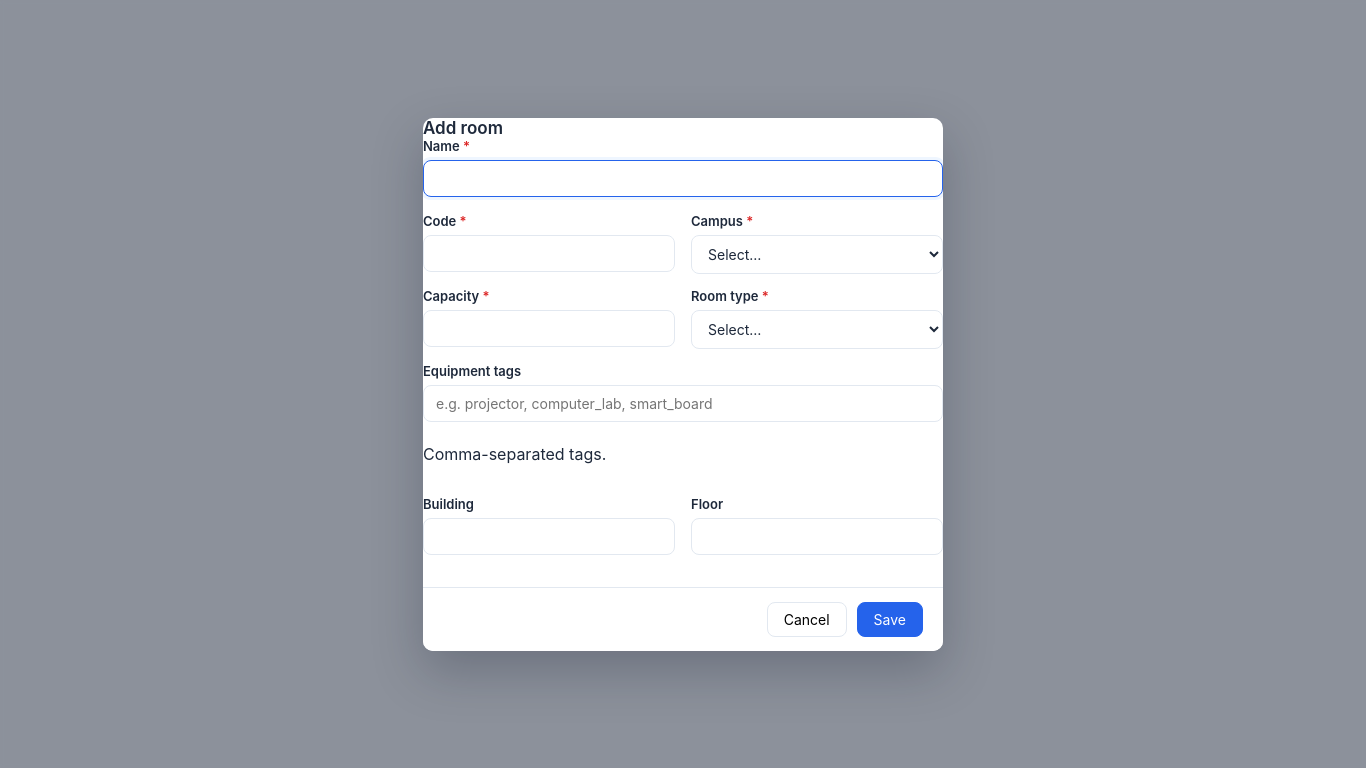
RoomFormModal › create mode › validates required fields on submit
This screenshot has width=1366, height=768.
Click the button "Save": (890, 619) [857,602,923,636]
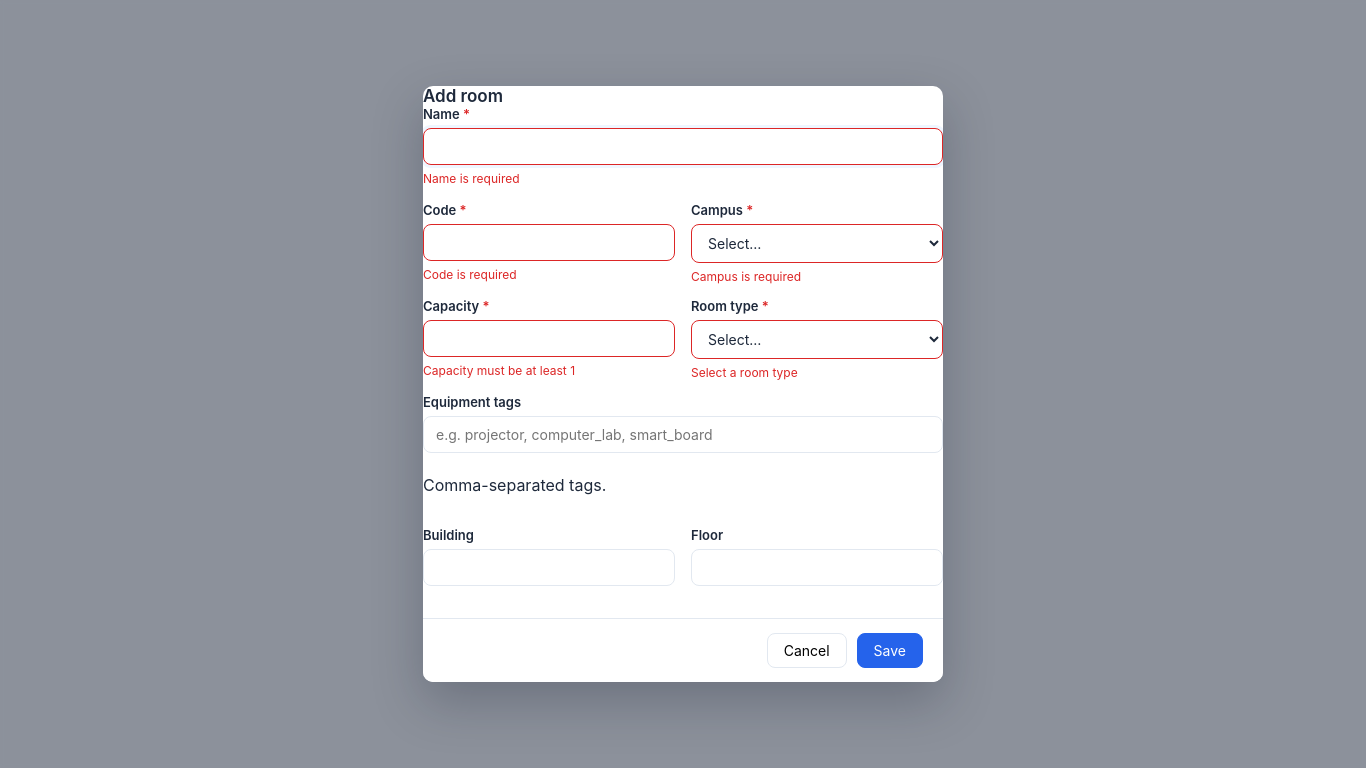
Check: the text "Name is required" is shown, box [423,171,520,186]
Check: the text "Code is required" is shown, box [423,267,517,282]
Check: the text "Campus is required" is shown, box [691,269,801,284]
